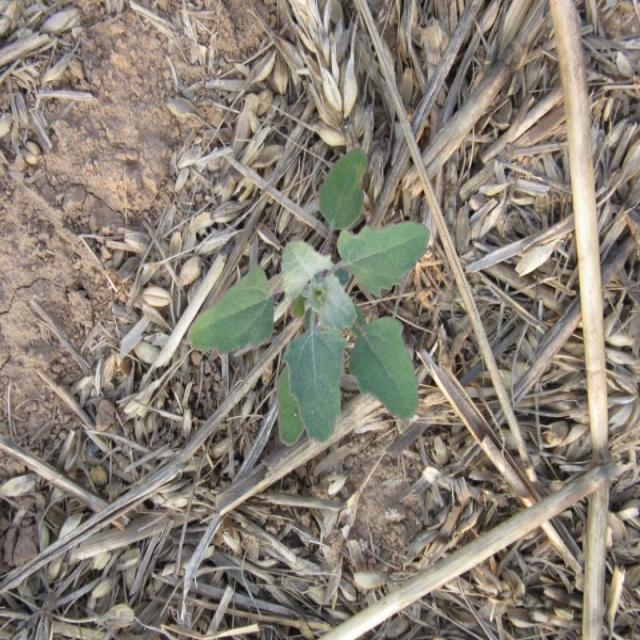ca: (189, 148, 427, 448)
